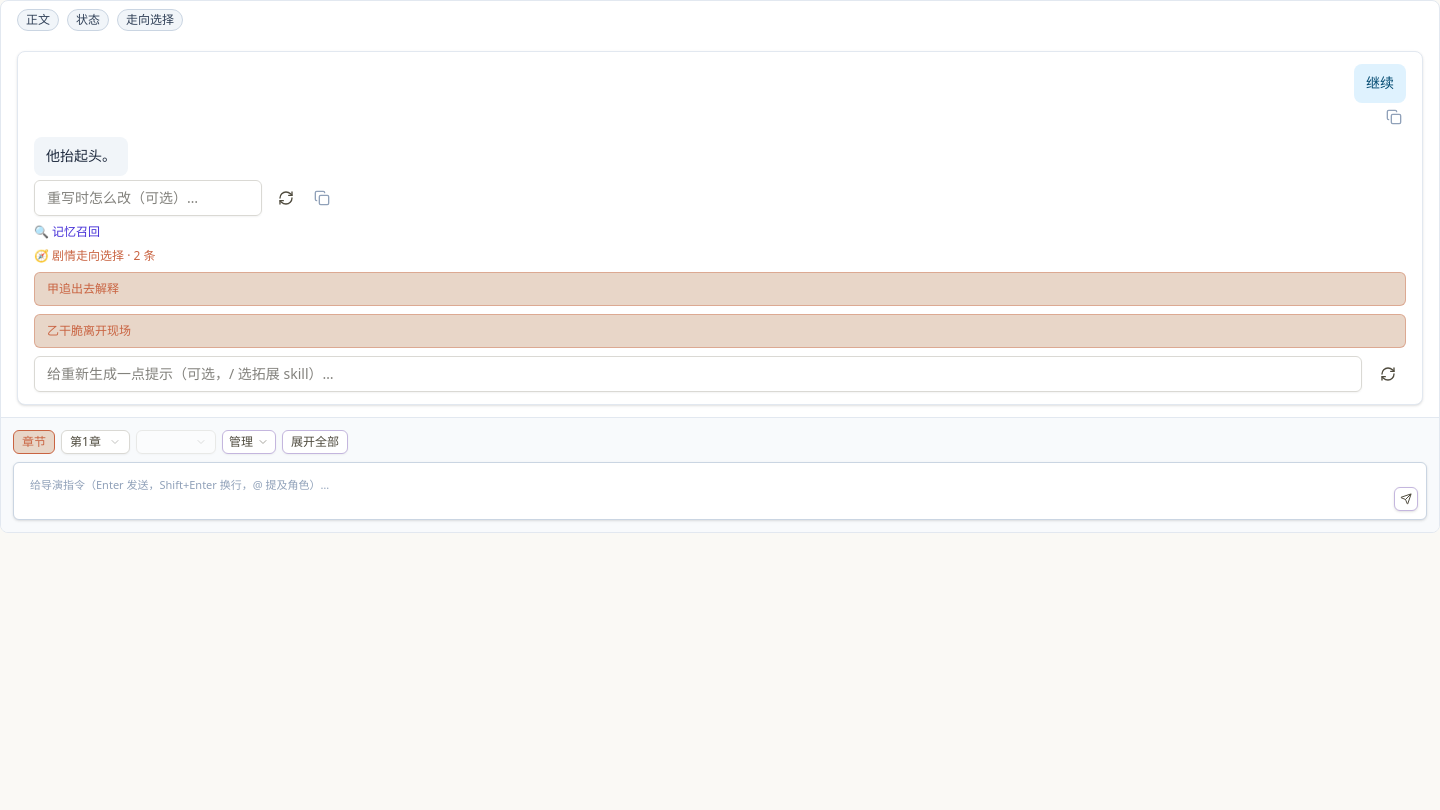
StorySandboxPanel › shows selected directions in a card above the composer and supports multi-select
Expected: the text "他抬起头。" is shown, [46, 145, 116, 168]
Click the button "甲追出去解释" at (83,288), box [34, 272, 1406, 306]
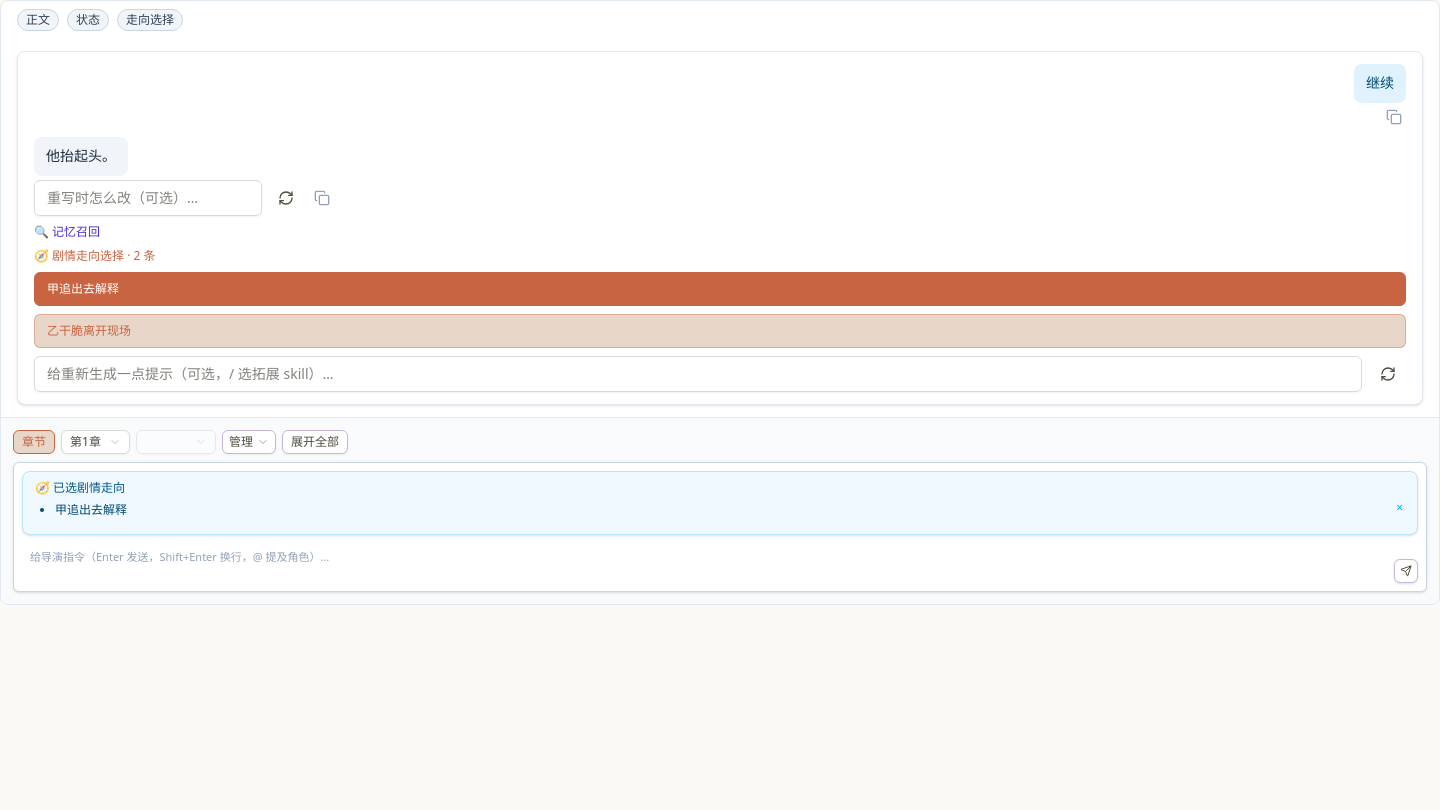
Click the button "乙干脆离开现场" at (89,330), box [34, 314, 1406, 348]
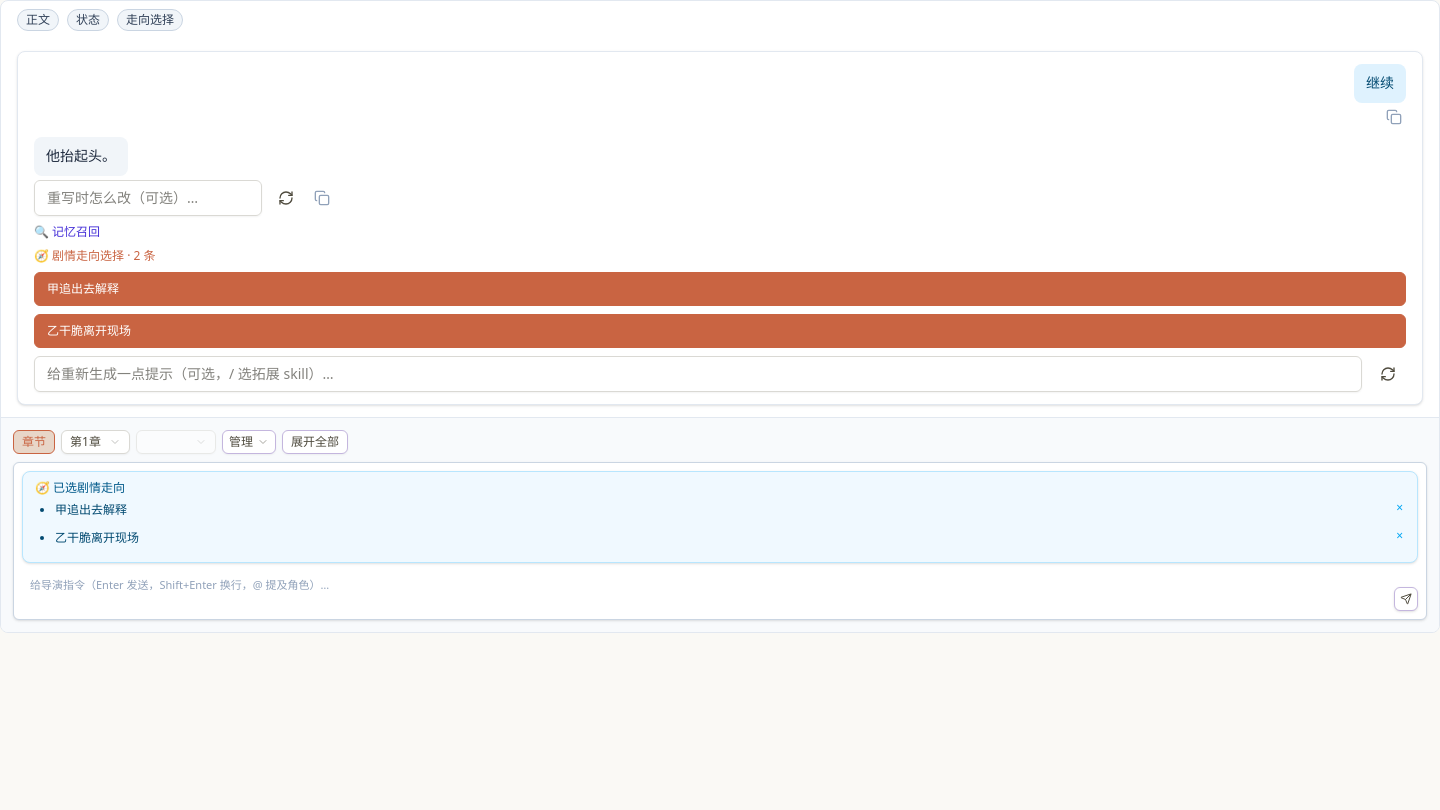
Expected: the text "🧭 已选剧情走向" shows "甲追出去解释", [55, 500, 127, 518]
Expected: the text "🧭 已选剧情走向" shows "乙干脆离开现场", [55, 528, 139, 546]
